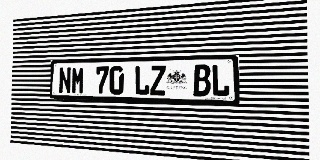0: (109, 66, 124, 95)
7: (95, 66, 109, 95)
B: (193, 64, 211, 96)
L: (211, 64, 230, 97), (134, 65, 150, 95)
M: (71, 67, 85, 94)
N: (58, 67, 71, 94)
Z: (150, 65, 166, 96)
